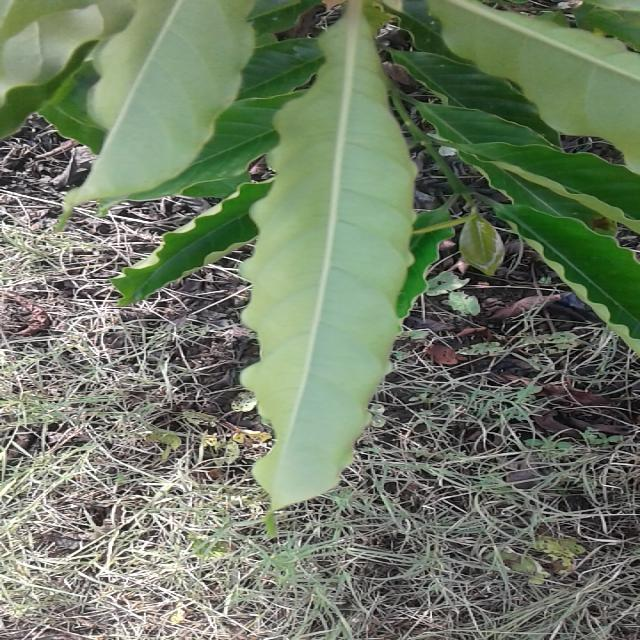Sanas: (240, 16, 443, 514)
